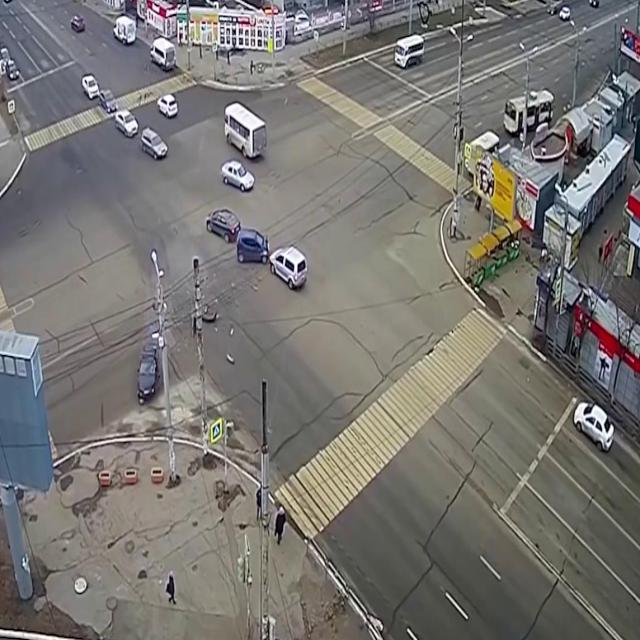accident: (133, 263, 241, 425), (202, 204, 273, 279)
non_accident: (80, 63, 182, 169), (217, 94, 272, 196)
